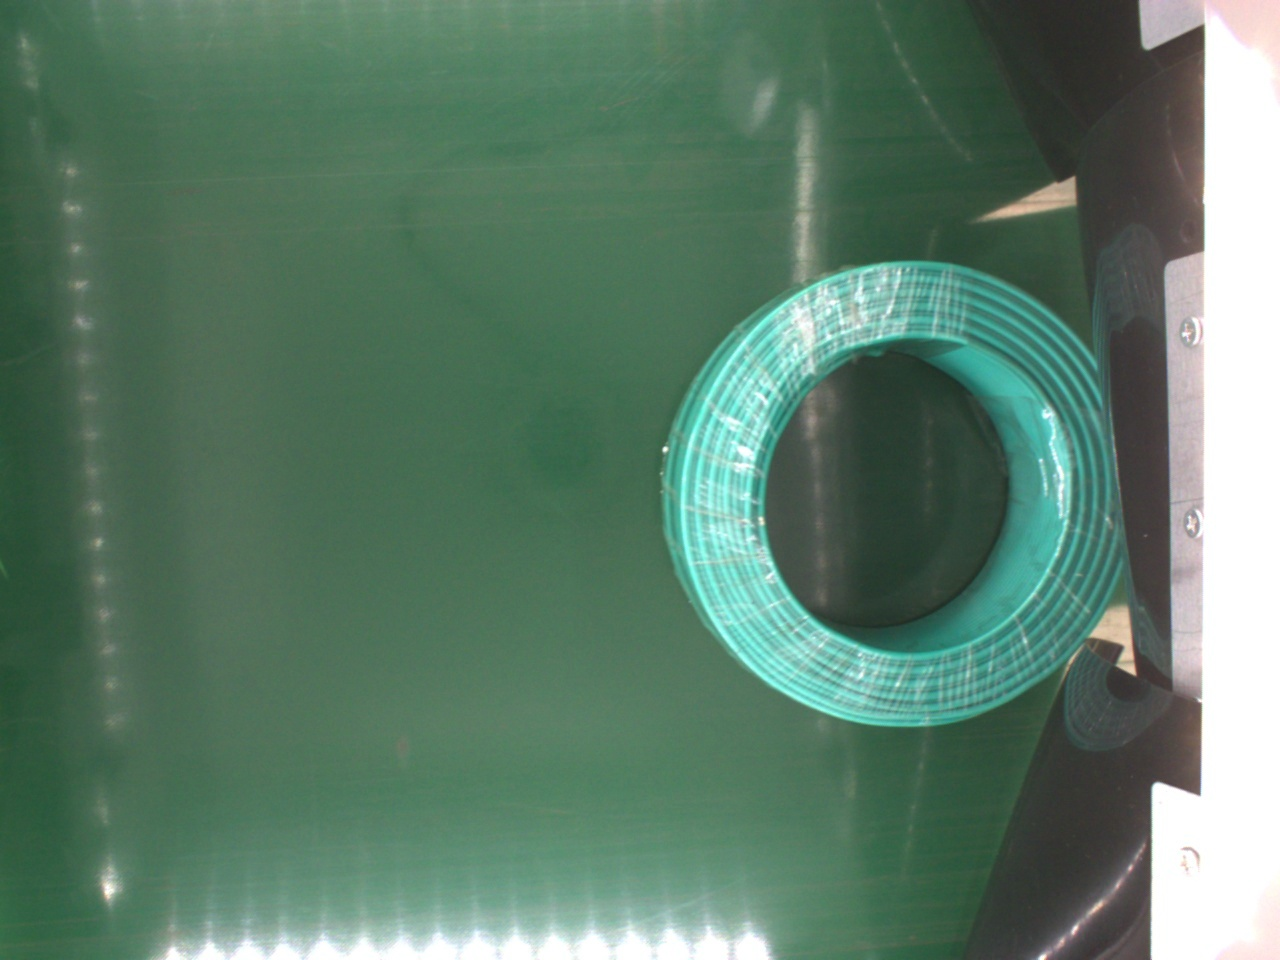green: (660, 255, 1124, 729)
